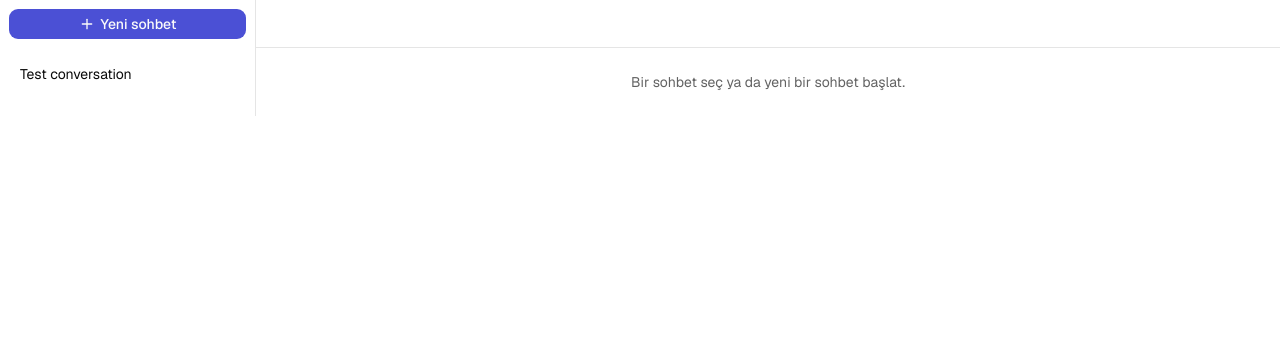
ChatView › shows a banner and reconciles when the stream sends an error event
Step 1. Click the button "Test conversation" → click(128, 74), box [8,56,247,92]
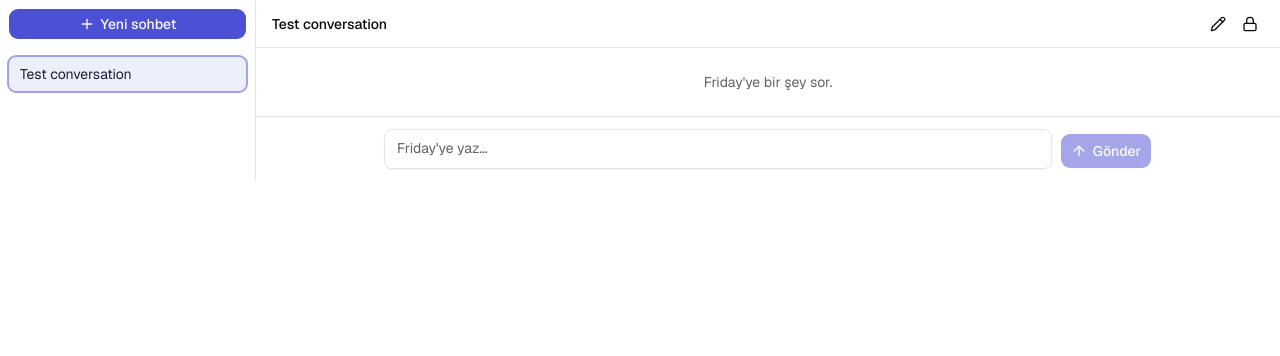
Expected: the text box with placeholder "Friday'ye yaz…" is shown
Step 2. Type "Trigger error" into the text box with placeholder "Friday'ye yaz…" → (718, 149), box [384,129,1052,169]
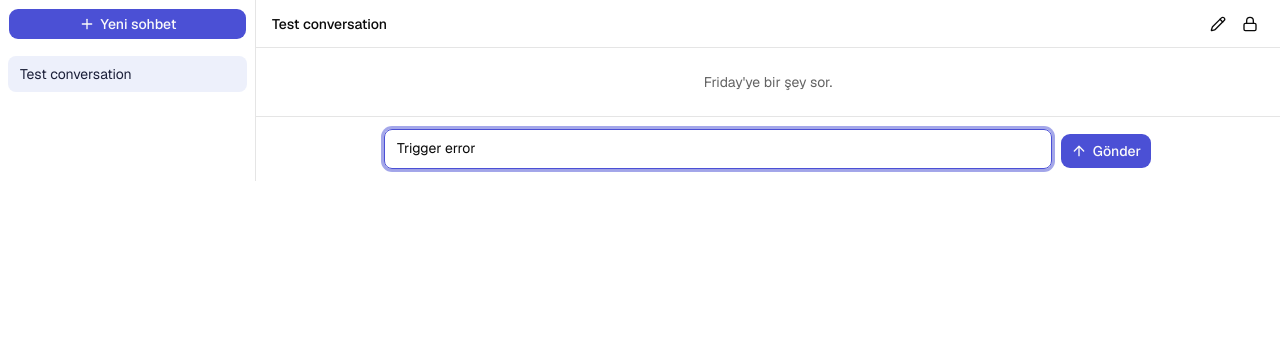
Step 3. Click the button "Gönder" → click(1106, 151), box [1060,133,1152,169]
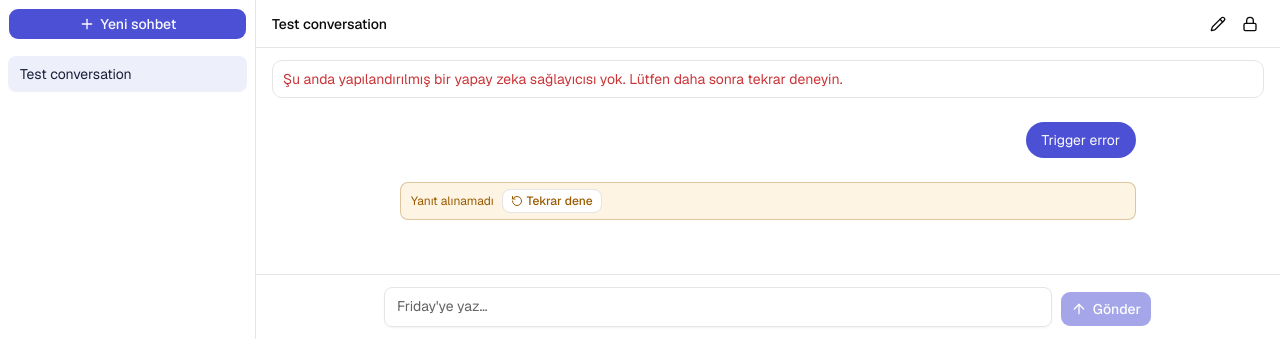
Expected: the 1st message shows "yapay zeka sağlayıcısı", [283,70,842,88]
Expected: the text "Yanıt alınamadı" is shown, [411,193,494,209]
